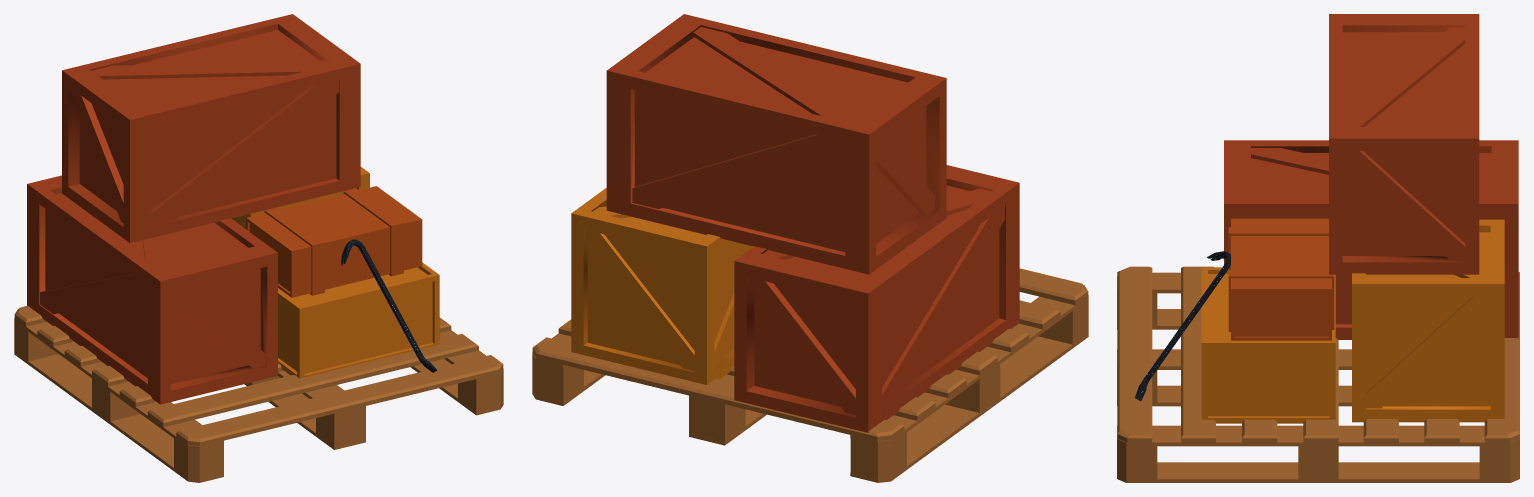
The model's file is Prop_Pallet_WB_A.fbx.
3 renders of one model, left to right at view 1: azimuth 30°, elevation 25°; view 2: azimuth 150°, elevation 25°; view 3: azimuth 270°, elevation 25°, orthographic. The views are drawn at different scales.
Parts seen in each view (by area): view 1: Prop_Pallet_WB_A; view 2: Prop_Pallet_WB_A; view 3: Prop_Pallet_WB_A.
Part boxes in pixels (x1=…): Prop_Pallet_WB_A: x1=14, y1=14, x2=503, y2=482; Prop_Pallet_WB_A: x1=532, y1=14, x2=1088, y2=482; Prop_Pallet_WB_A: x1=1117, y1=14, x2=1519, y2=482.
Size of the model in its own units: 177 by 177 by 153.
